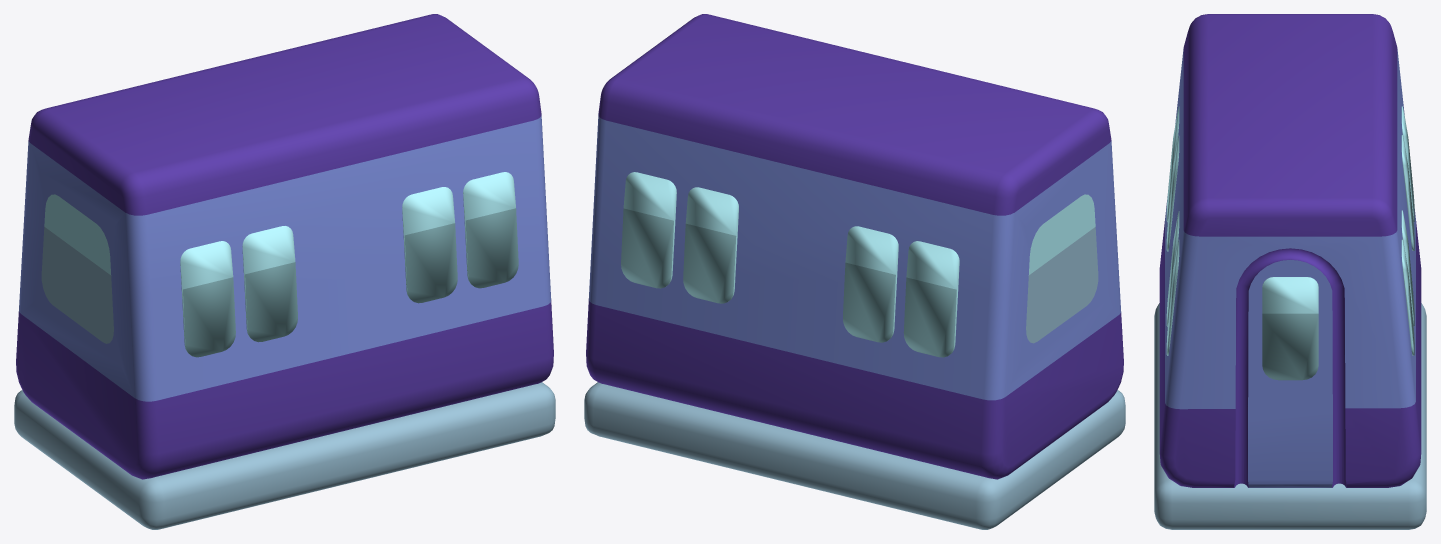
The model's file is Train.fbx.
3 renders of one model, left to right at view 1: azimuth 30°, elevation 25°; view 2: azimuth 150°, elevation 25°; view 3: azimuth 270°, elevation 25°, orthographic. The views are drawn at different scales.
Visible parts, largest first — view 1: Boole, Cube_1, Cube_4, Cube_6, Cube_5, Cube_7; view 2: Boole, Cube_1, Cube_8, Cube_10, Cube_9, Cube_11; view 3: Boole, Cube_1, Cube, Cube_9, Cube_10, Cube_4, Cube_7, Cube_8, Cube_11, Cube_6, Cube_5.
Boxes of the visible parts, box(x1,y1,x2,y2) form: Boole: box(16, 14, 553, 479); Cube_1: box(14, 382, 555, 529); Cube_4: box(463, 172, 518, 288); Cube_6: box(180, 241, 235, 357); Cube_5: box(402, 187, 457, 303); Cube_7: box(242, 226, 297, 342); Boole: box(586, 14, 1123, 479); Cube_1: box(584, 382, 1125, 529); Cube_8: box(683, 187, 738, 303); Cube_10: box(843, 226, 898, 342); Cube_9: box(621, 172, 676, 288); Cube_11: box(903, 241, 959, 357); Boole: box(1159, 14, 1421, 487); Cube_1: box(1154, 303, 1426, 529); Cube: box(1262, 277, 1318, 380); Cube_9: box(1401, 239, 1414, 355); Cube_10: box(1401, 135, 1414, 250); Cube_4: box(1166, 240, 1179, 355); Cube_7: box(1166, 136, 1179, 251); Cube_8: box(1401, 210, 1414, 326); Cube_11: box(1401, 106, 1414, 221); Cube_6: box(1166, 106, 1179, 222); Cube_5: box(1166, 211, 1179, 326).
Bounding box in the file's own units: 404 × 317 × 236.
